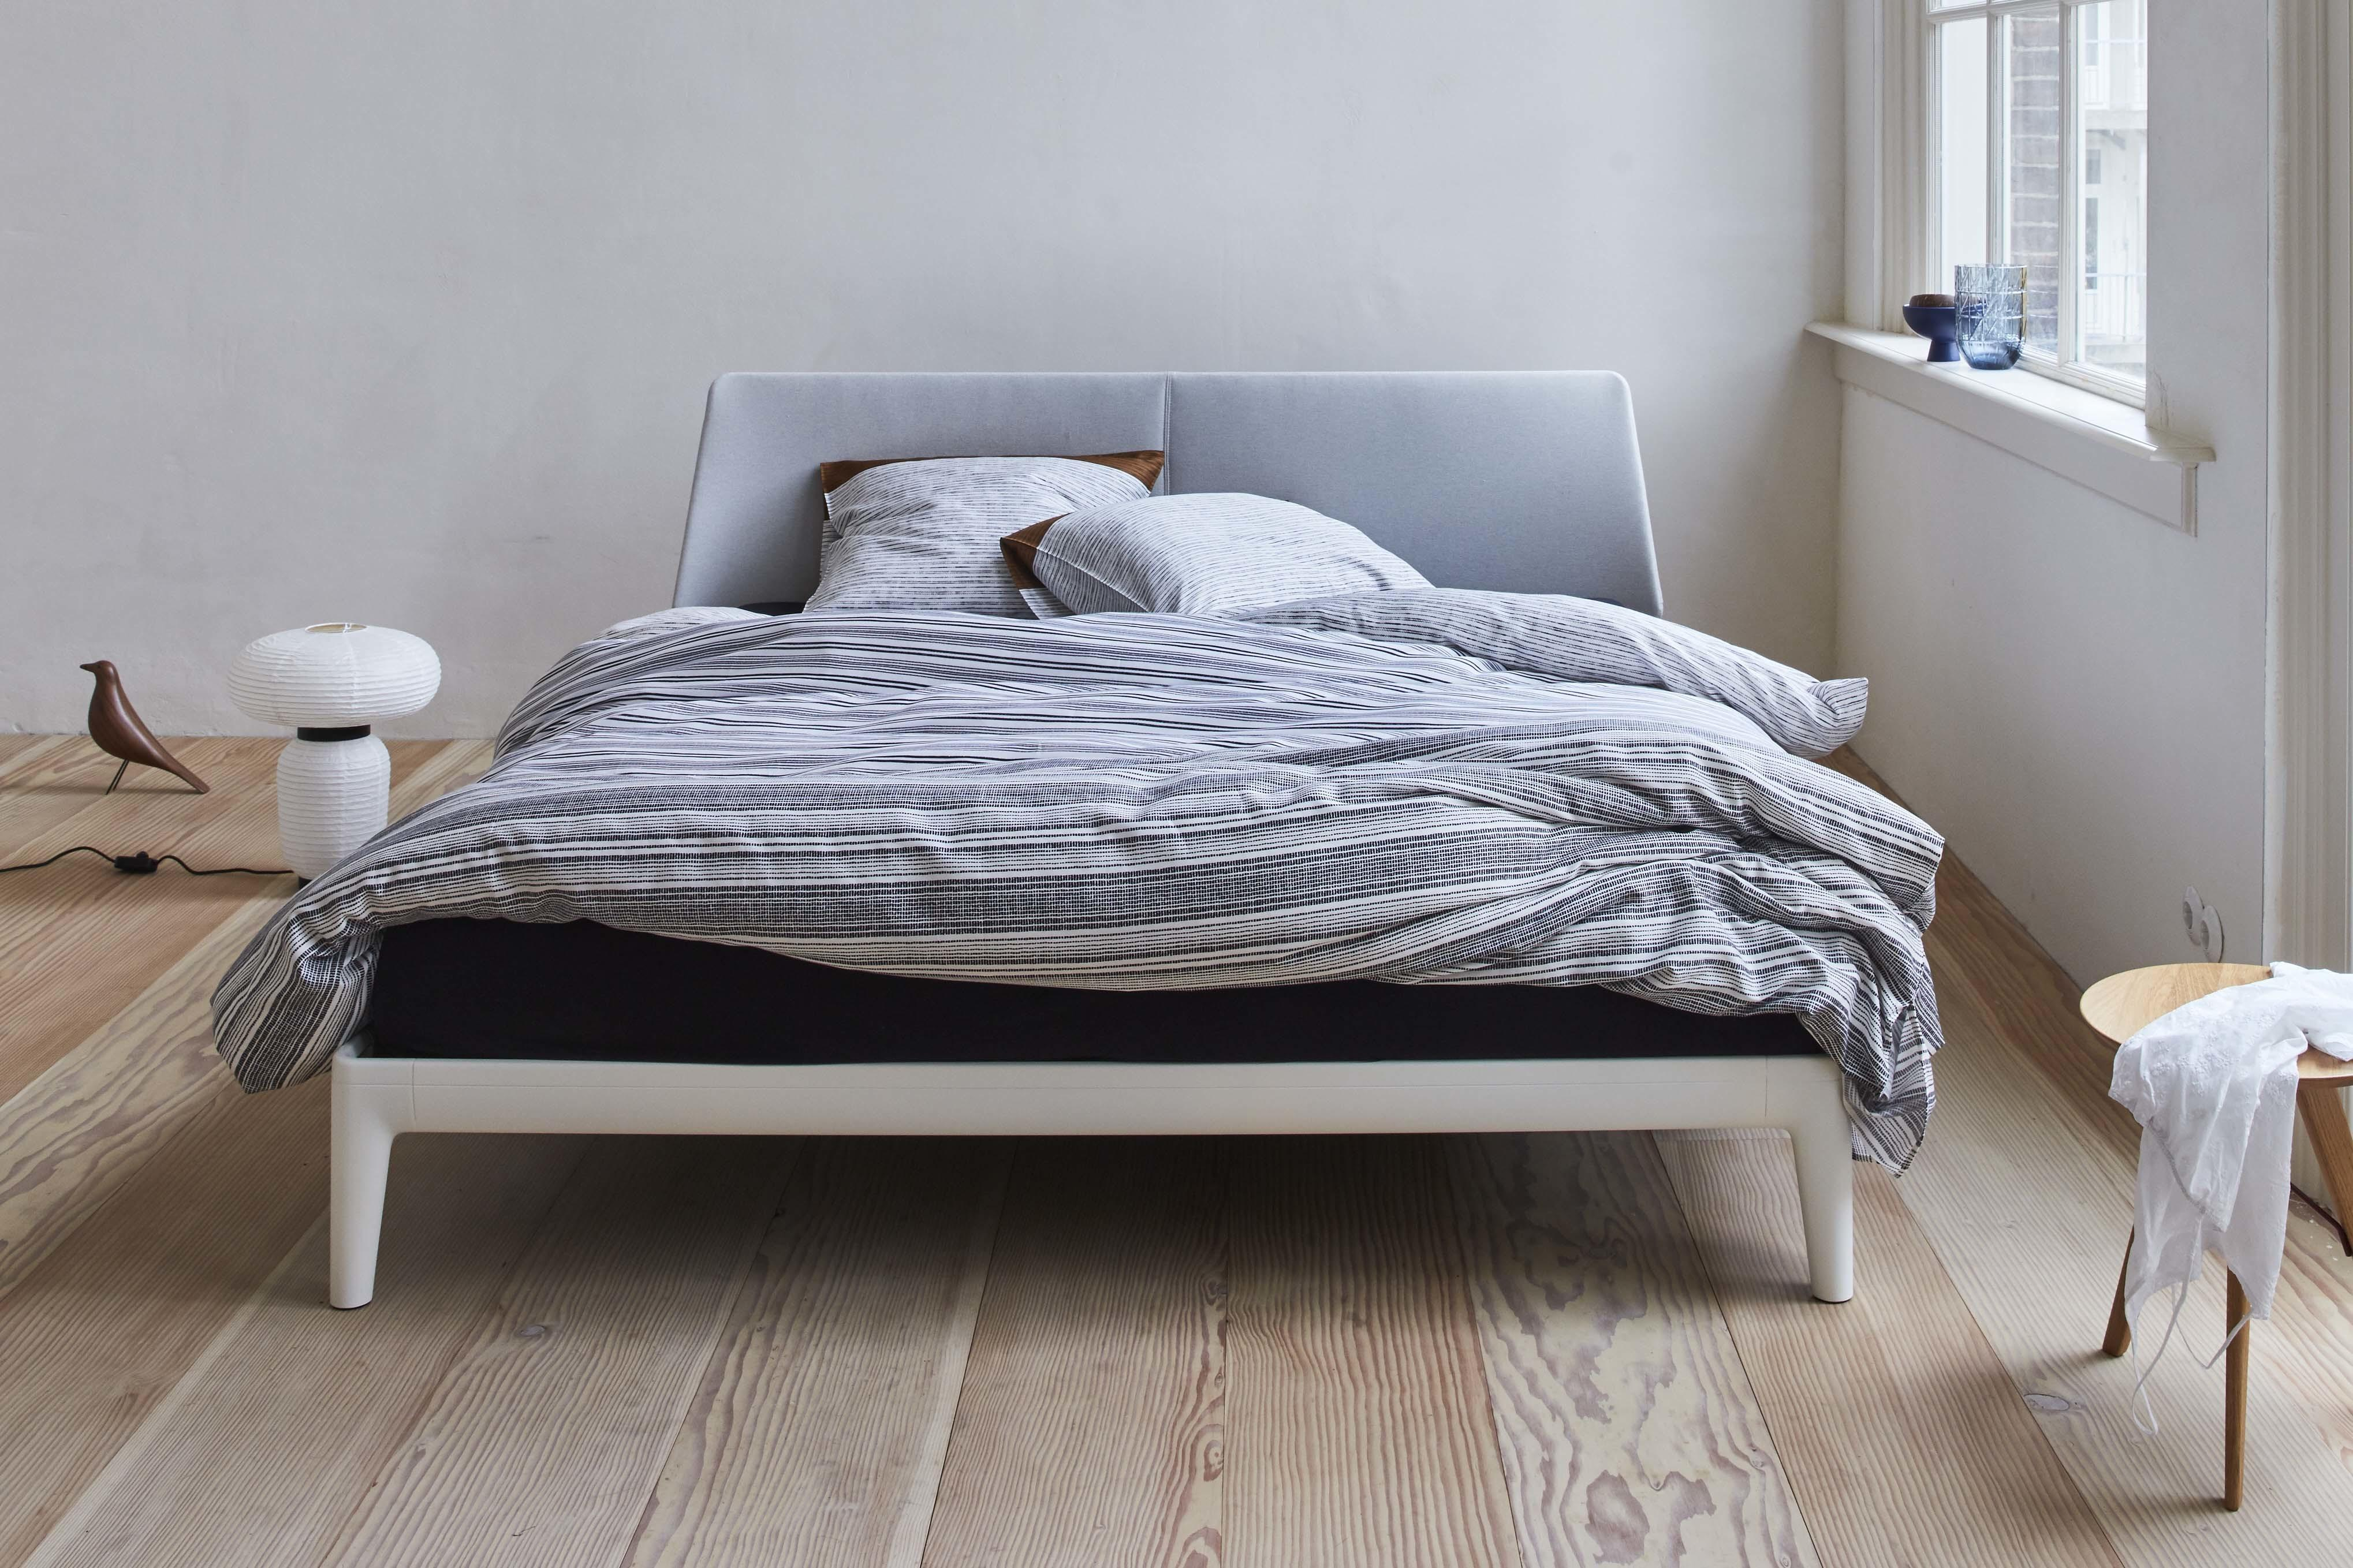bed: (462, 306, 1888, 1204)
